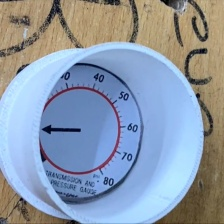gauge: (41, 64, 143, 201)
